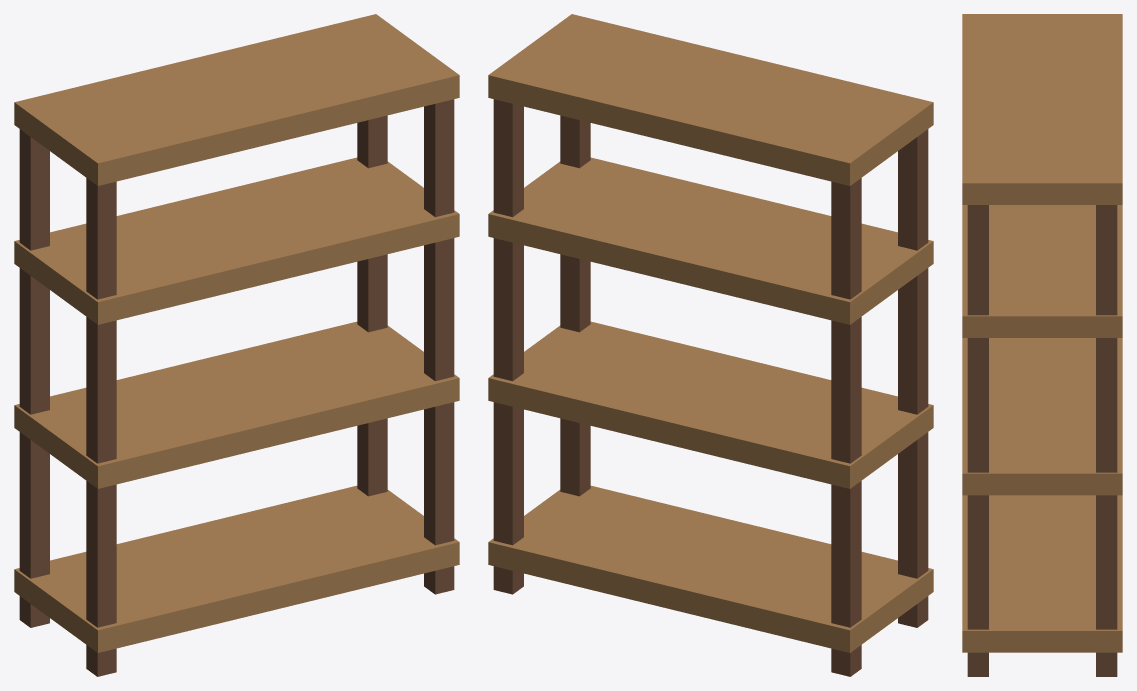
Rendered from storage_shelf.glb.
The picture shows the model from 3 angles, left to right: view 1: azimuth 30°, elevation 25°; view 2: azimuth 150°, elevation 25°; view 3: azimuth 270°, elevation 25°; orthographic projection. The views are drawn at different scales.
Visible parts, largest first — view 1: storage_shelf; view 2: storage_shelf; view 3: storage_shelf.
Boxes of the visible parts, <box> form: storage_shelf: <box>14,14,459,676</box>; storage_shelf: <box>488,14,933,676</box>; storage_shelf: <box>962,14,1122,676</box>.
Bounding box in the file's own units: 1.5 × 2.05 × 0.6.
